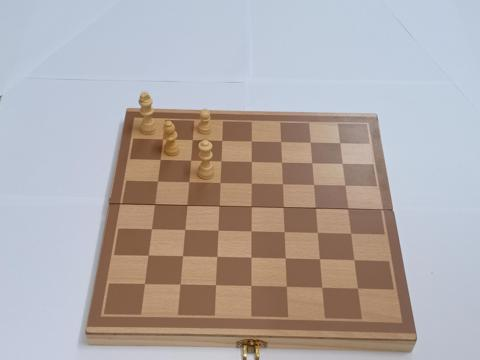xcorner: (186, 156, 196, 166), (184, 178, 194, 188), (177, 253, 187, 263), (278, 158, 288, 168), (354, 285, 364, 295), (158, 135, 168, 144), (155, 156, 165, 165), (149, 201, 159, 210), (188, 135, 197, 145), (215, 202, 224, 212), (214, 227, 223, 237), (212, 254, 222, 263), (247, 180, 257, 189), (247, 203, 257, 212), (247, 283, 256, 293), (277, 138, 287, 147), (279, 180, 288, 190), (282, 255, 291, 265), (307, 138, 316, 148), (310, 181, 320, 190), (312, 205, 322, 214), (314, 230, 324, 239), (316, 256, 326, 265), (339, 160, 349, 169), (345, 205, 354, 215), (348, 230, 357, 240), (153, 178, 162, 187), (146, 226, 155, 235), (143, 253, 152, 262), (139, 281, 148, 290), (182, 202, 191, 211), (180, 227, 189, 236), (175, 282, 184, 291), (218, 136, 227, 145), (217, 157, 226, 166), (216, 179, 225, 188), (211, 283, 220, 292), (248, 137, 257, 146), (248, 158, 257, 167), (247, 228, 256, 237), (247, 255, 256, 264), (280, 204, 289, 213), (281, 229, 290, 238), (283, 284, 292, 293), (309, 159, 318, 168), (319, 285, 328, 294), (337, 139, 346, 148), (342, 182, 351, 191), (351, 257, 360, 266)
